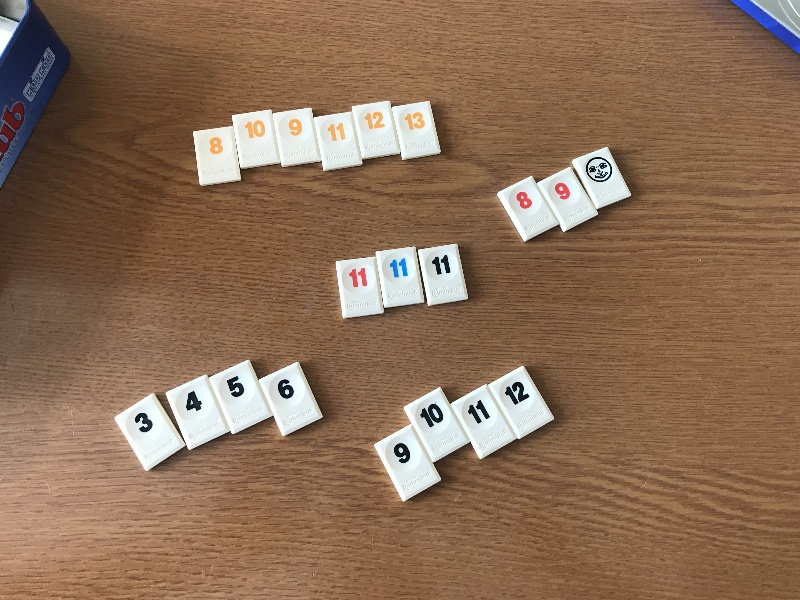single_tile: (114, 393, 187, 470), (450, 383, 517, 462), (165, 373, 232, 451), (404, 386, 471, 464), (258, 361, 324, 437), (208, 360, 274, 435), (374, 425, 440, 500), (489, 364, 555, 439), (497, 173, 561, 243), (536, 166, 601, 233), (572, 142, 632, 208), (351, 99, 402, 164), (334, 254, 385, 319), (391, 99, 443, 162), (375, 245, 426, 309), (418, 242, 469, 306), (314, 110, 363, 175), (193, 123, 243, 186), (274, 107, 324, 168), (232, 109, 281, 170)
tile_row: (373, 363, 557, 503), (190, 92, 445, 190), (111, 359, 328, 473), (495, 143, 635, 246), (331, 243, 473, 320)
